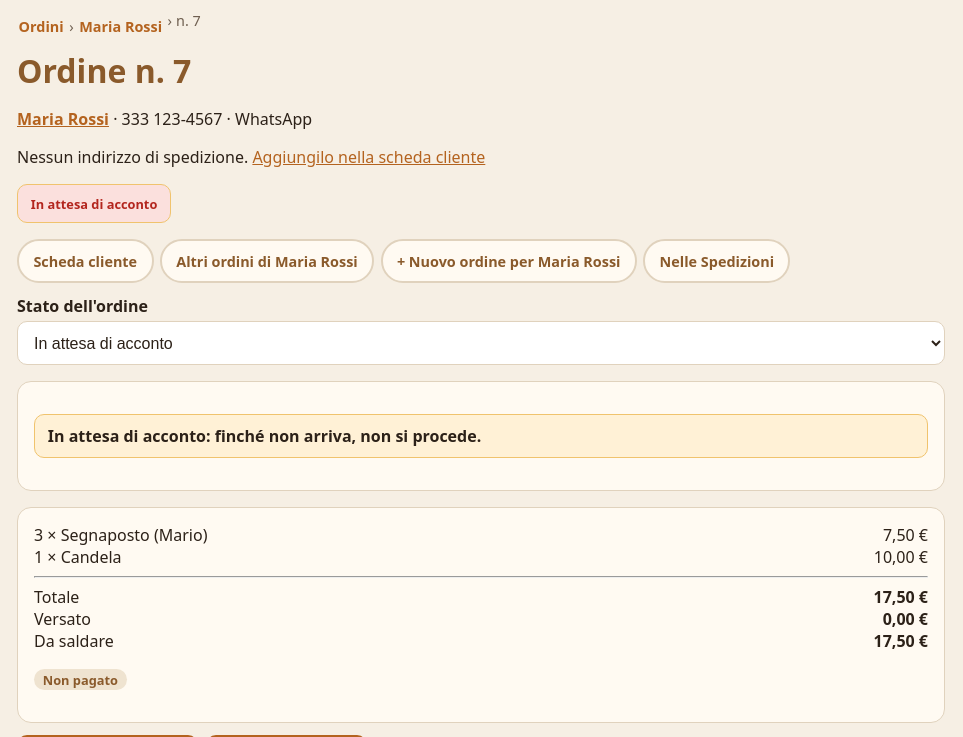
stati: senza acconto non si procede › un ordine senza pagamenti non può andare in preparazione
Select "In preparazione" in the dropdown labelled "Stato dell'ordine". click: (481, 343)
box: [17,321,945,365]
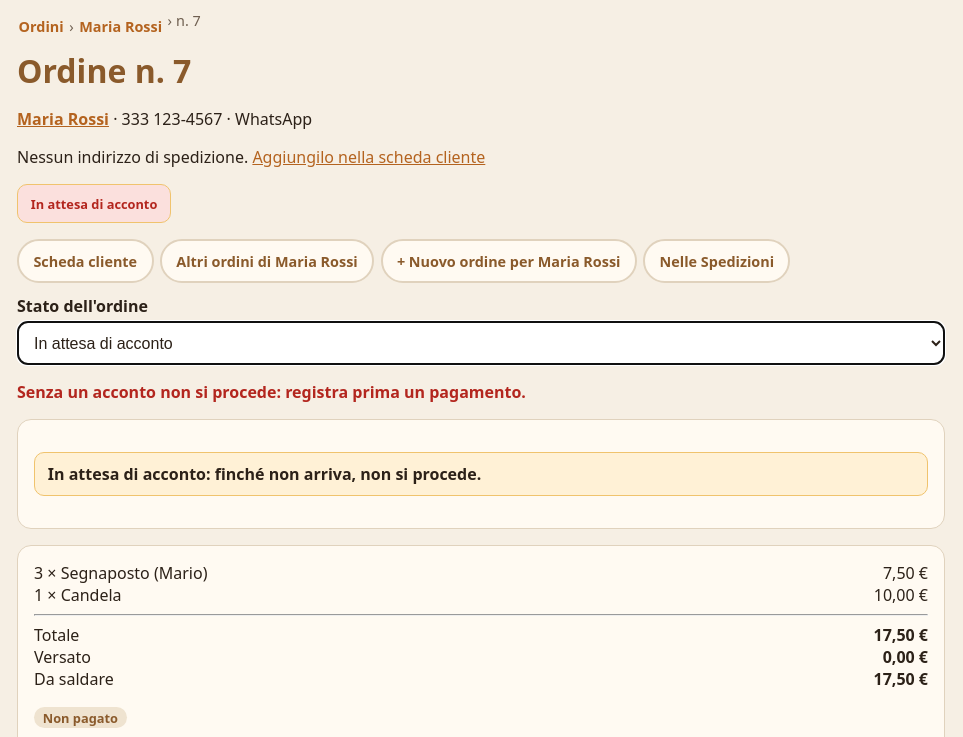
Now the text "Senza un acconto non si procede: registra prima un pagamento." is shown, box [17,381,526,403]
